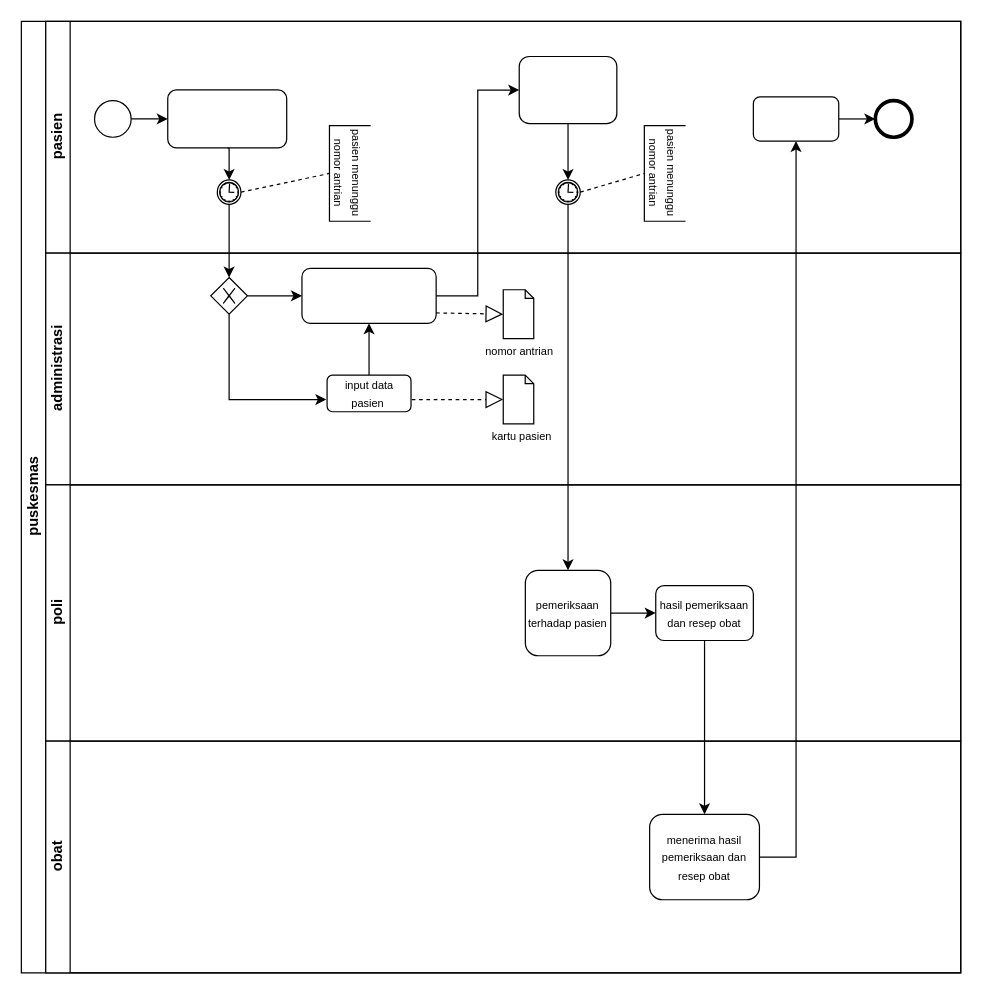
This 982x994 diagram has some shape labels left out. The shapes that lost their labels are listed below. From the top down, each one's centre as x and y in pixels, then its label:
(x=567, y=89): menerima nomor antrian poli
(x=227, y=118): pasien mengambil nomor antrian pendaftaran
(x=795, y=118): pasien menerima obat
(x=368, y=295): input data pasien sesuai dengan tujuan poli
